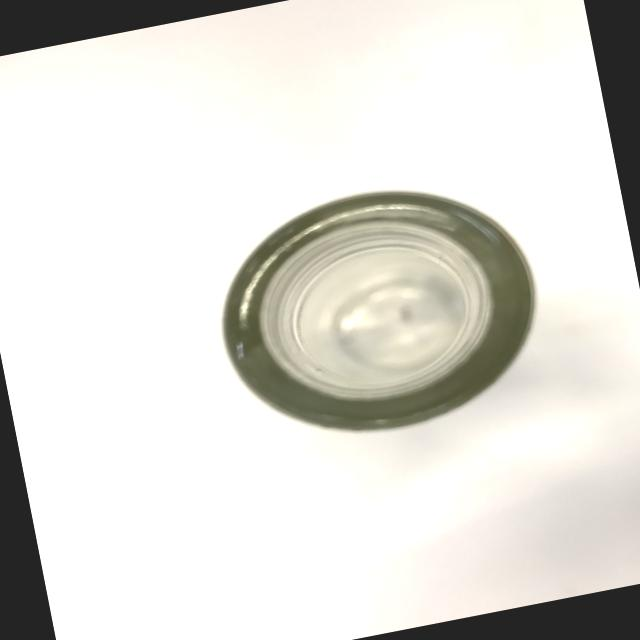Glass: (192, 150, 566, 462)
